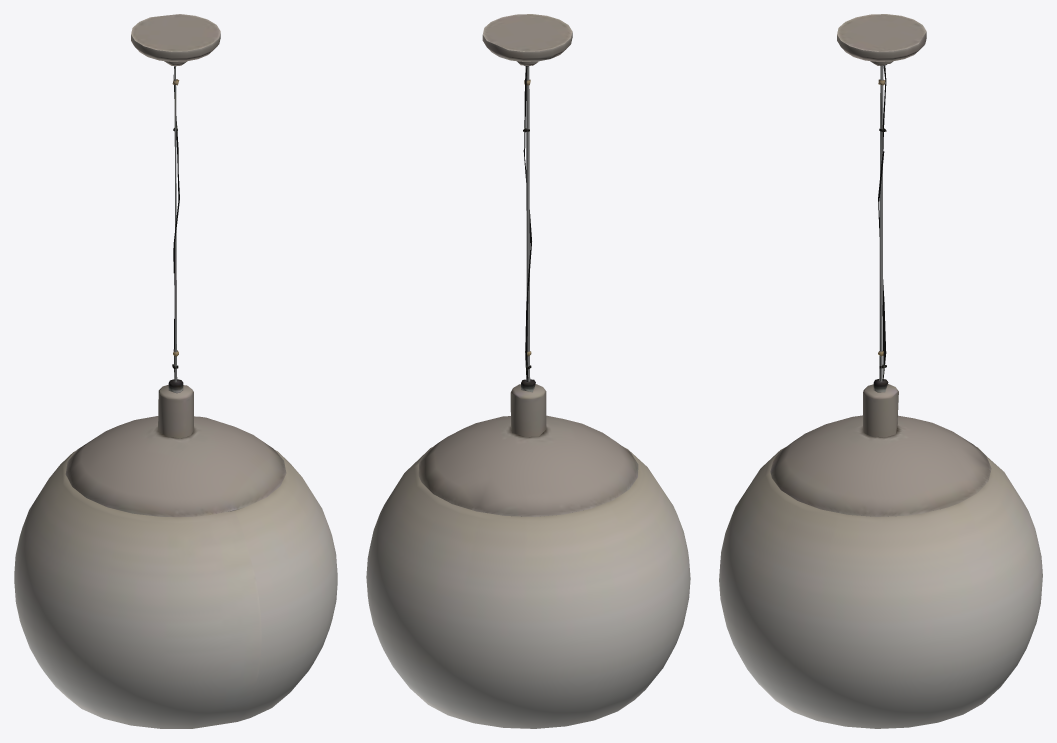
Rendered from modern_ceiling_lamp_01.glb.
The picture shows the model from 3 angles, left to right: view 1: azimuth 30°, elevation 25°; view 2: azimuth 150°, elevation 25°; view 3: azimuth 270°, elevation 25°; orthographic projection.
Parts seen in each view (by area): view 1: modern_ceiling_lamp_01; view 2: modern_ceiling_lamp_01; view 3: modern_ceiling_lamp_01.
Part boxes in pixels (box(x1,y1,x2,y2)): modern_ceiling_lamp_01: box(14, 14, 337, 728); modern_ceiling_lamp_01: box(366, 14, 690, 728); modern_ceiling_lamp_01: box(719, 14, 1042, 728).
Bounding box in the file's own units: 0.4316 × 0.9512 × 0.4316.
2 materials, 2 textured.
